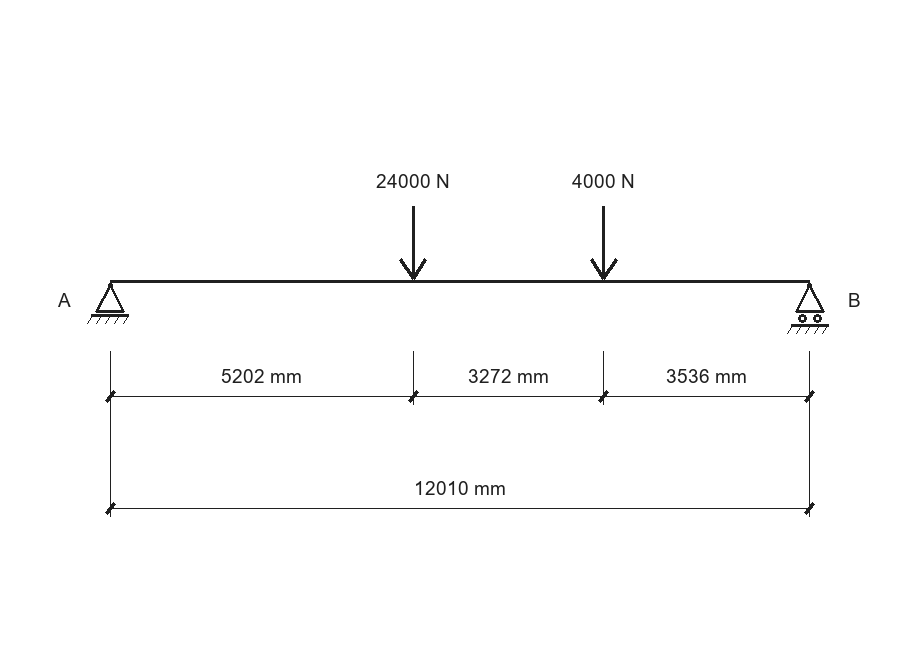pin_support: (87, 283, 129, 324)
point_load: (399, 206, 427, 280), (590, 206, 618, 280)
roller_support: (787, 283, 829, 334)
